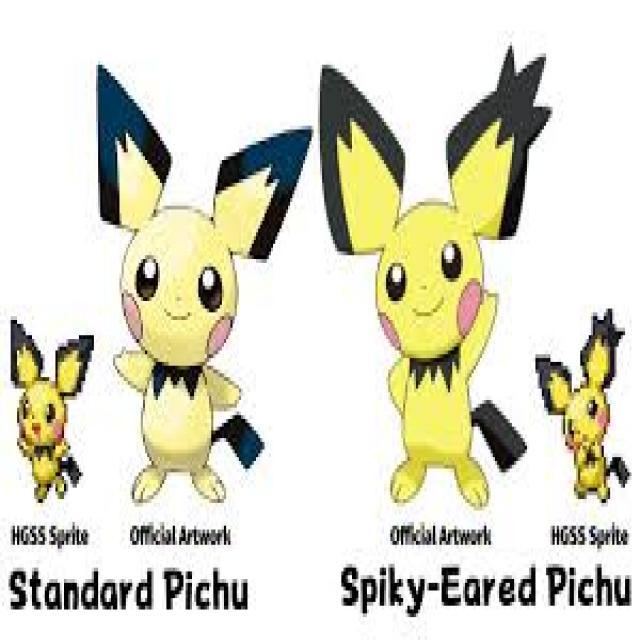pichu: (86, 34, 324, 546)
